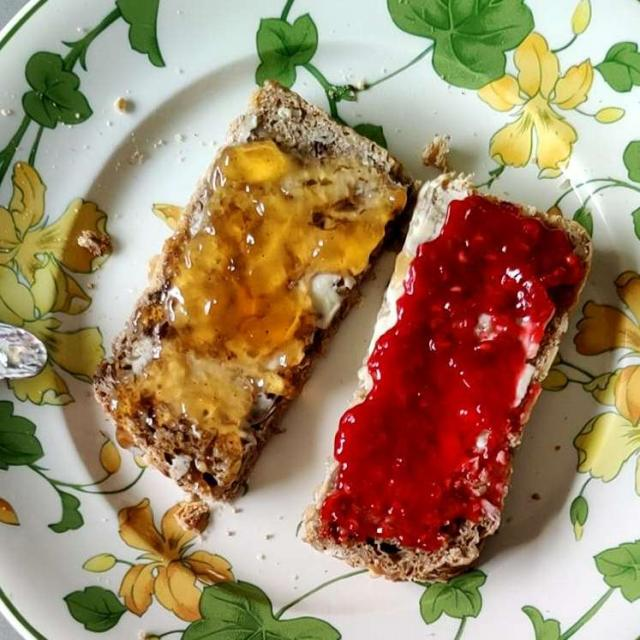bread-wholemeal: (91, 71, 593, 603)
jam: (139, 144, 571, 543)
